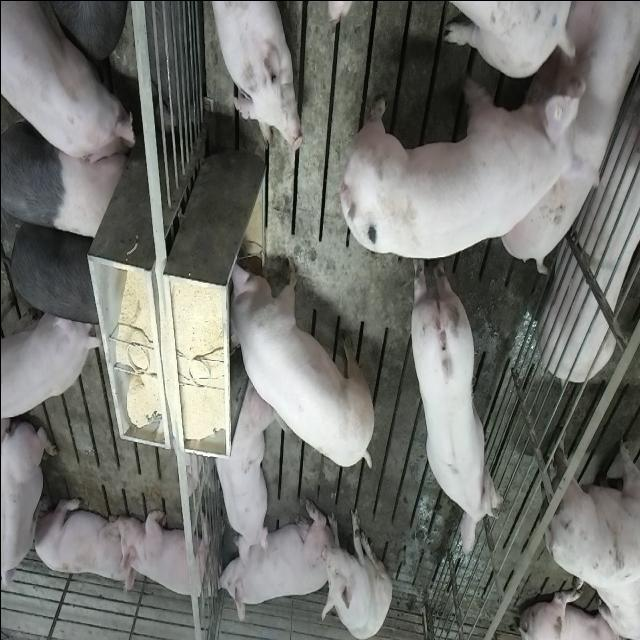Feeding: (218, 247, 369, 470)
Lateral_lying: (538, 20, 640, 384)
Sitting: (319, 503, 392, 638)
Standing: (378, 57, 587, 260), (407, 260, 503, 560), (2, 0, 137, 168), (2, 81, 129, 240), (536, 415, 640, 581), (0, 301, 104, 418), (2, 216, 102, 328)
Sternal_lying: (204, 0, 300, 154), (216, 503, 325, 625), (210, 382, 272, 562), (2, 416, 56, 601), (117, 504, 215, 604), (30, 492, 130, 588)
